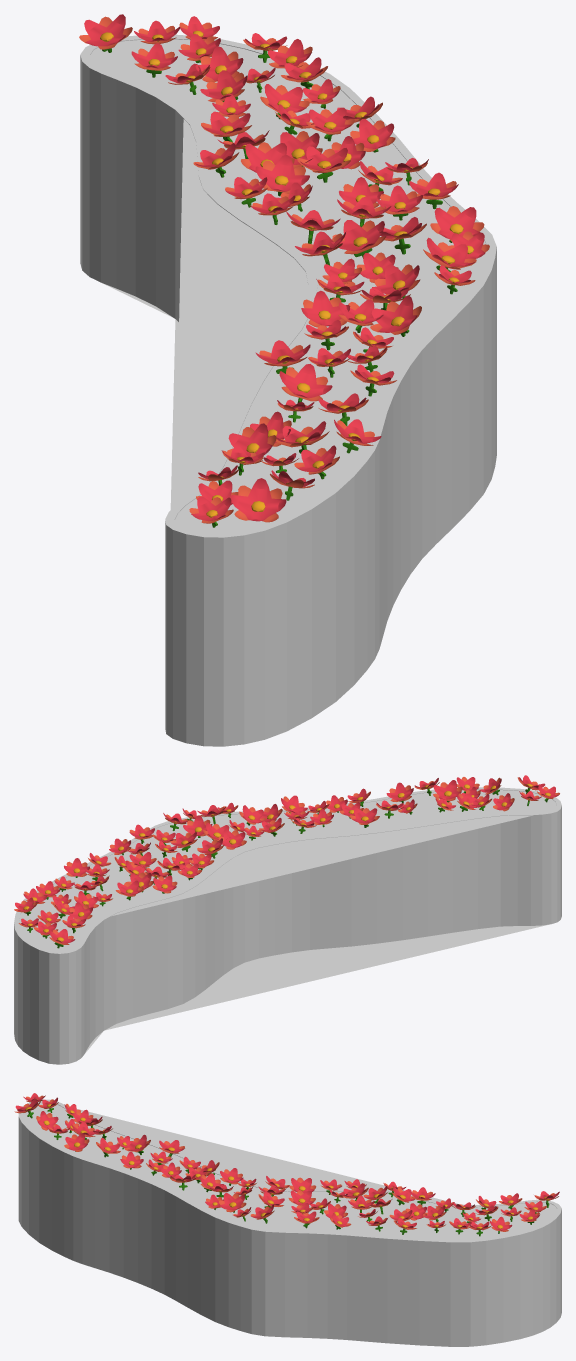
The model's file is FlowerPot4thArea.fbx.
The picture shows the model from 3 angles, top to bottom: view 1: azimuth 30°, elevation 25°; view 2: azimuth 150°, elevation 25°; view 3: azimuth 270°, elevation 25°; orthographic projection. The views are drawn at different scales.
Visible parts, largest first — view 1: FlowerBase4, FlowerGeneration4; view 2: FlowerBase4, FlowerGeneration4; view 3: FlowerBase4, FlowerGeneration4.
Part boxes in pixels (x1,y1,x2,y2): FlowerBase4: [80, 34, 496, 746]; FlowerGeneration4: [79, 14, 489, 527]; FlowerBase4: [14, 787, 561, 1064]; FlowerGeneration4: [14, 775, 559, 948]; FlowerBase4: [18, 1099, 561, 1346]; FlowerGeneration4: [14, 1093, 559, 1236].
Bounding box in the file's own units: 260 × 104 × 421.
